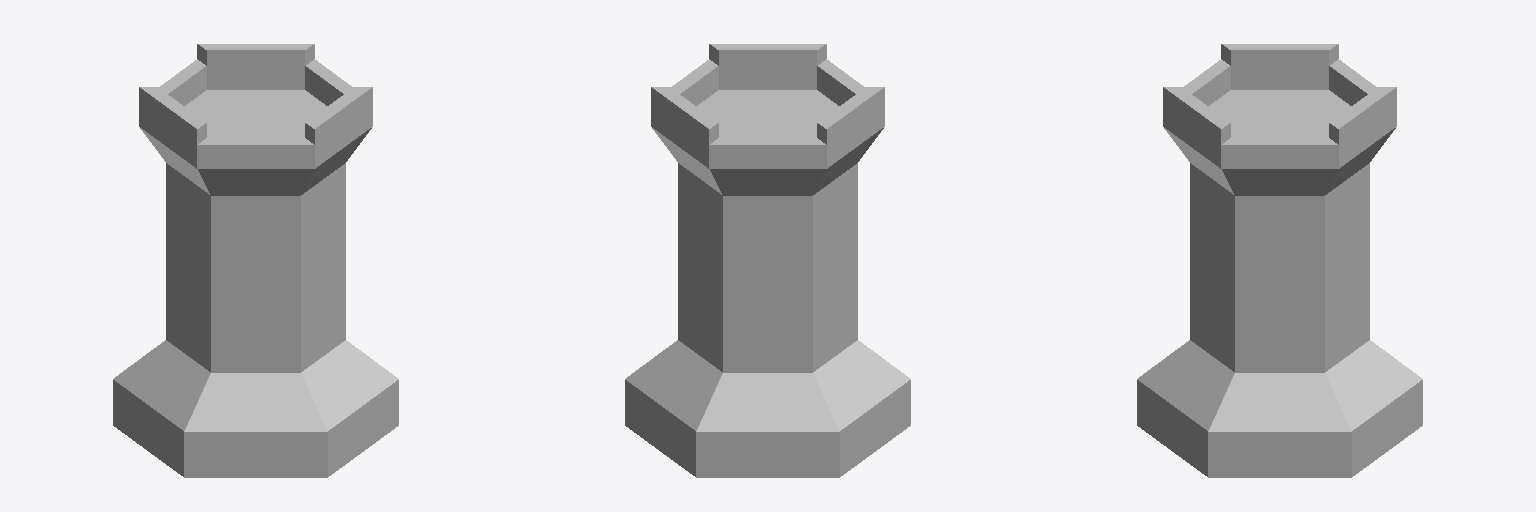
Rendered from rook.obj.
3 views of the same model, side by side, from view 1: azimuth 30°, elevation 25°; view 2: azimuth 150°, elevation 25°; view 3: azimuth 270°, elevation 25° (orthographic).
Visible parts, largest first — view 1: Rook; view 2: Rook; view 3: Rook.
Boxes of the visible parts, x1,y1,x2,y2 form: Rook: [113, 44, 398, 477]; Rook: [625, 44, 910, 477]; Rook: [1137, 44, 1422, 477].
Bounding box in the file's own units: 0.2717 × 0.4093 × 0.3138.